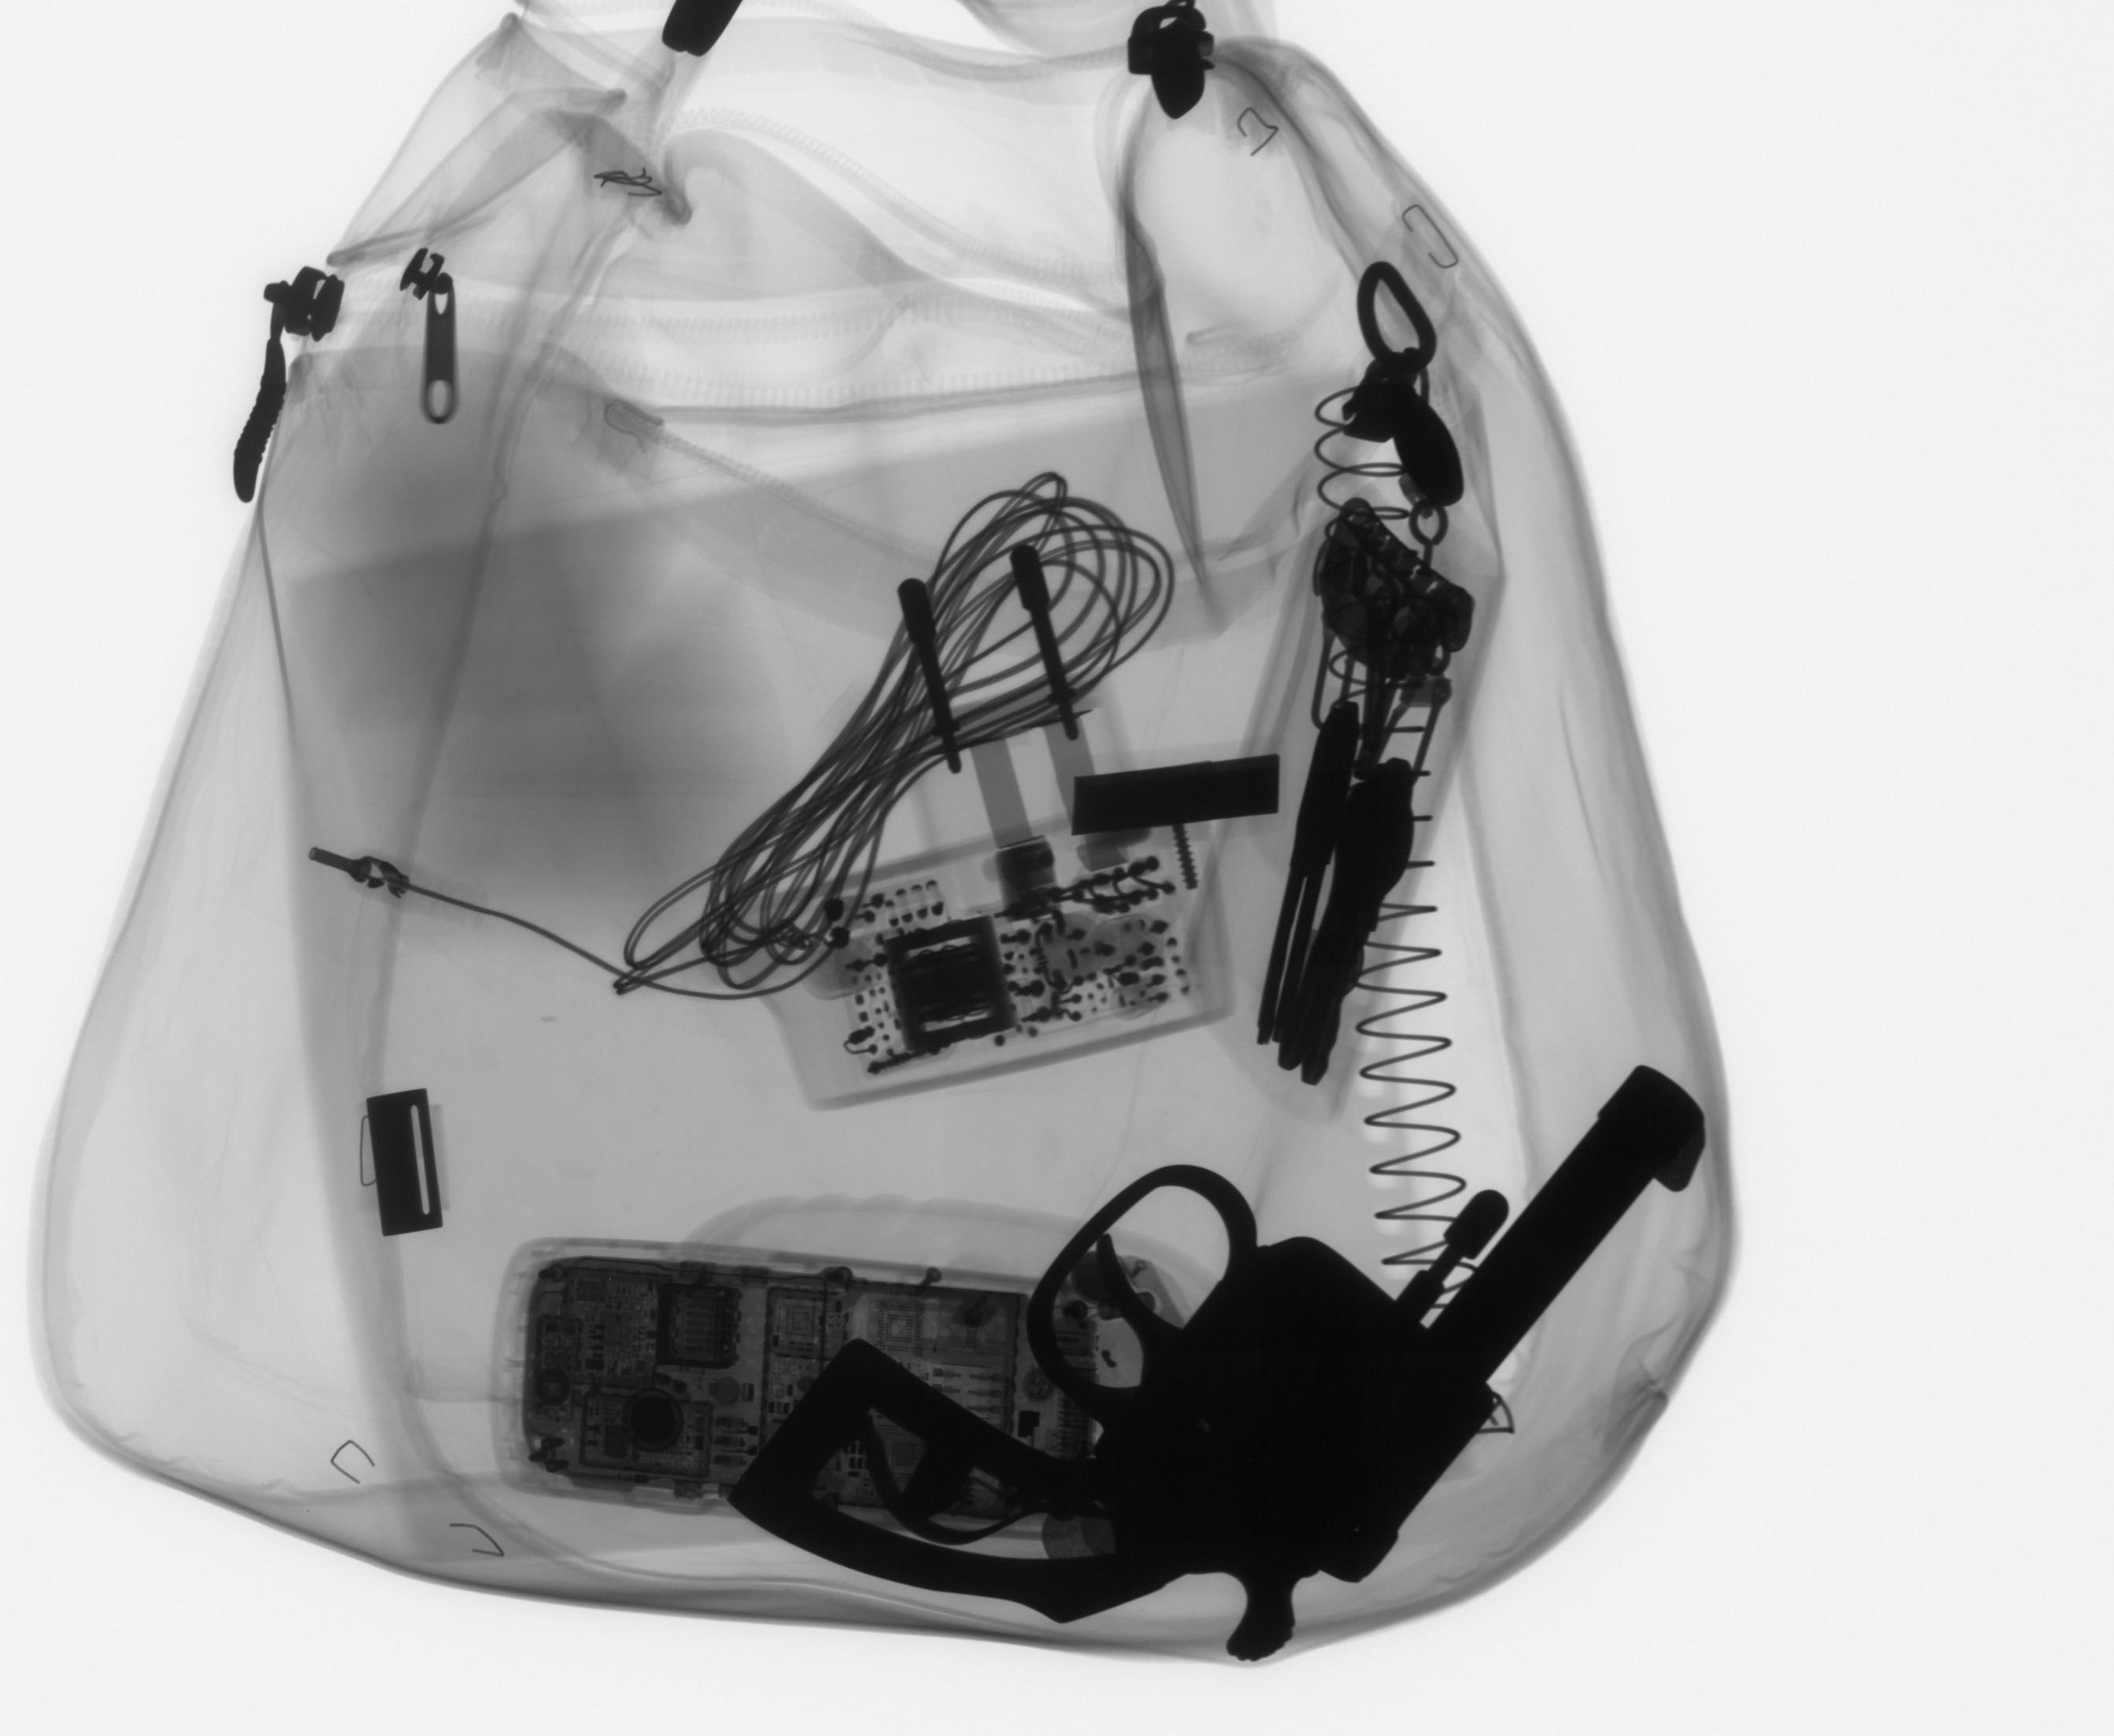Handgun: (720, 1059, 1718, 1668)
